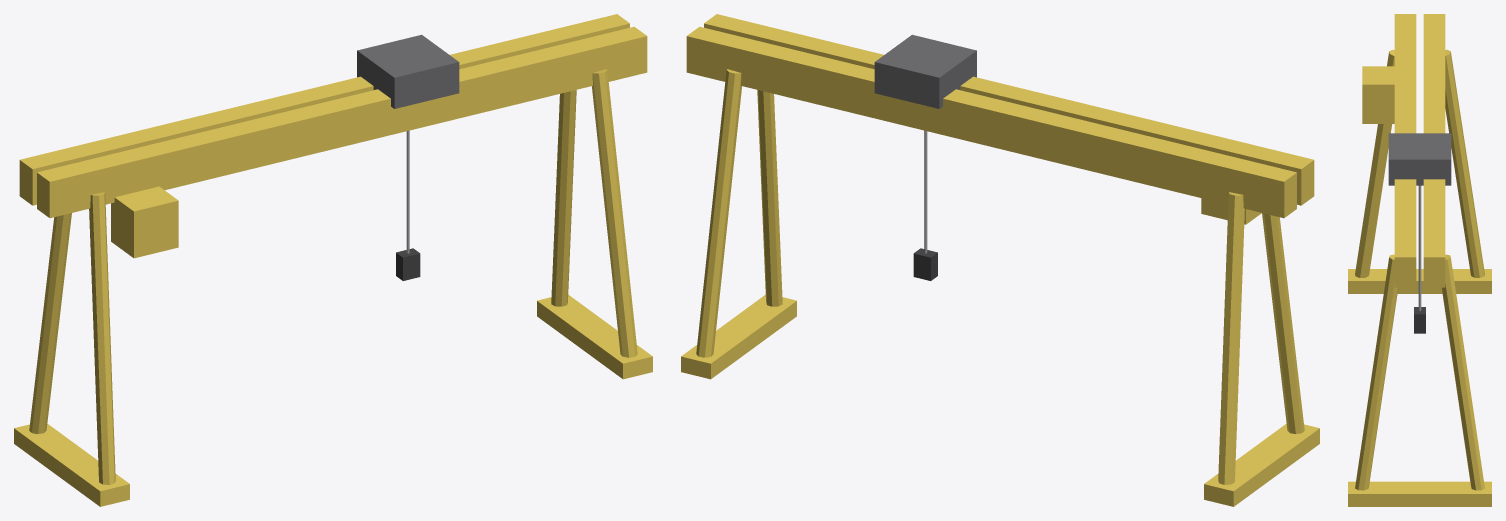
File: GantryCrane.glb
3 views of the same model, side by side, from view 1: azimuth 30°, elevation 25°; view 2: azimuth 150°, elevation 25°; view 3: azimuth 270°, elevation 25° (orthographic). The views are drawn at different scales.
Visible parts, largest first — view 1: Girder, Girder.001, Trolley, Member.084, Member.082, Cab, Sill, Member.083, Sill.001, Member.085, Hook block; view 2: Girder.001, Girder, Trolley, Member.085, Member.083, Sill, Member.082, Sill.001, Member.084, Hook block; view 3: Girder, Girder.001, Sill.001, Member.084, Member.085, Trolley, Member.083, Member.082, Sill, Cab, Member.086, Hook block.
Boxes of the visible parts, <box> form: Girder: <box>37,26,647,218</box>; Girder.001: <box>19,14,629,205</box>; Trolley: <box>357,34,459,108</box>; Member.084: <box>592,69,637,357</box>; Member.082: <box>89,192,115,484</box>; Cab: <box>111,186,178,258</box>; Sill: <box>14,423,129,506</box>; Member.083: <box>29,213,71,433</box>; Sill.001: <box>537,295,652,379</box>; Member.085: <box>551,90,576,306</box>; Hook block: <box>396,248,420,280</box>; Girder.001: <box>686,26,1296,218</box>; Girder: <box>704,14,1314,205</box>; Trolley: <box>874,34,976,108</box>; Member.085: <box>696,69,741,357</box>; Member.083: <box>1218,192,1244,484</box>; Sill: <box>1204,423,1319,506</box>; Member.082: <box>1262,213,1304,433</box>; Sill.001: <box>681,295,796,379</box>; Member.084: <box>757,90,782,306</box>; Hook block: <box>913,248,937,280</box>; Girder: <box>1394,14,1416,287</box>; Girder.001: <box>1423,14,1445,287</box>; Sill.001: <box>1348,481,1491,506</box>; Member.084: <box>1355,254,1398,490</box>; Member.085: <box>1441,254,1484,490</box>; Trolley: <box>1388,133,1451,185</box>; Member.083: <box>1445,49,1484,277</box>; Member.082: <box>1355,49,1394,277</box>; Sill: <box>1348,269,1491,293</box>; Cab: <box>1362,66,1394,123</box>; Member.086: <box>1418,185,1421,310</box>; Hook block: <box>1414,307,1425,333</box>.
Size of the model in its own units: 24 by 12.84 by 6.
